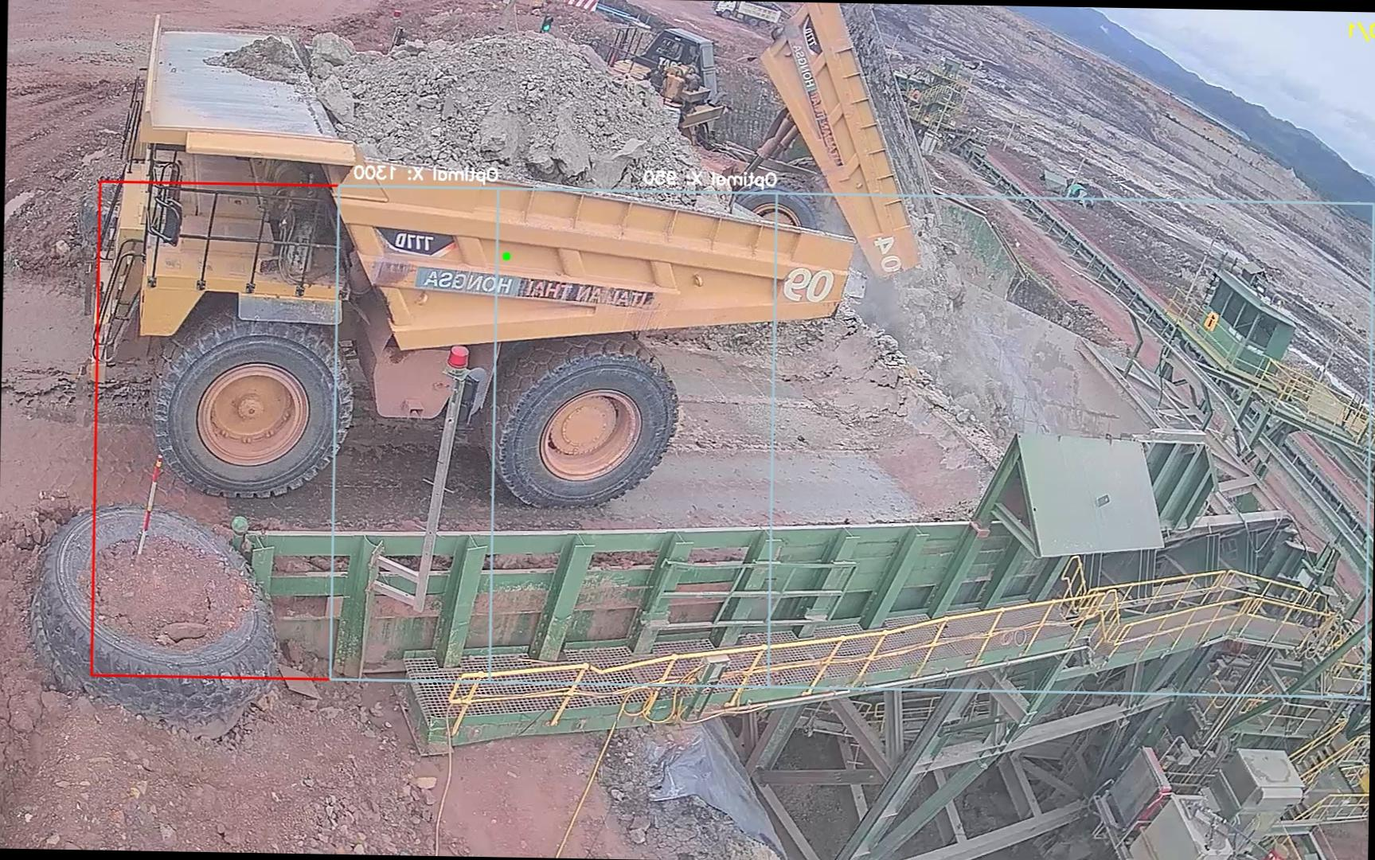company: (403, 263, 669, 313)
full_load: (337, 18, 672, 188)
mining_truck: (71, 0, 867, 514)
tail_number: (779, 256, 840, 313)
truck_size: (372, 215, 458, 260)
